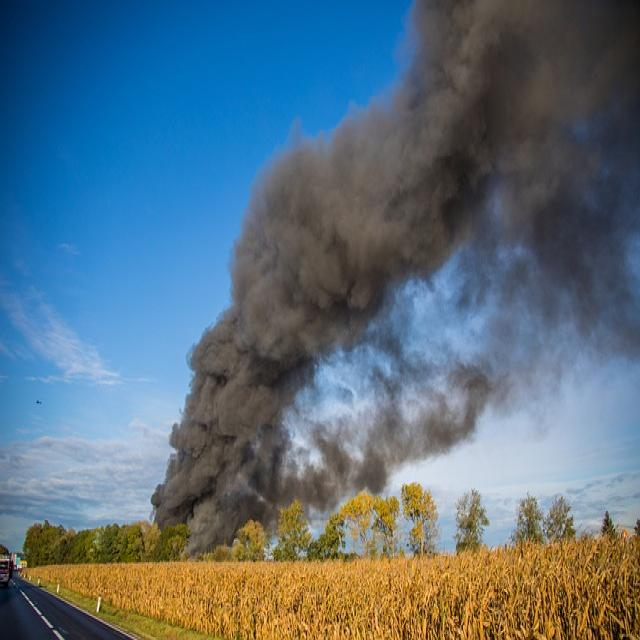smoke: (147, 3, 640, 537)
